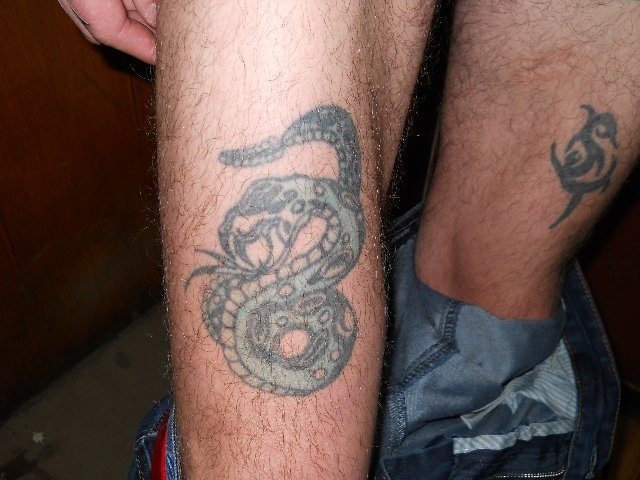tatu7_zmeya: (181, 113, 378, 419)
